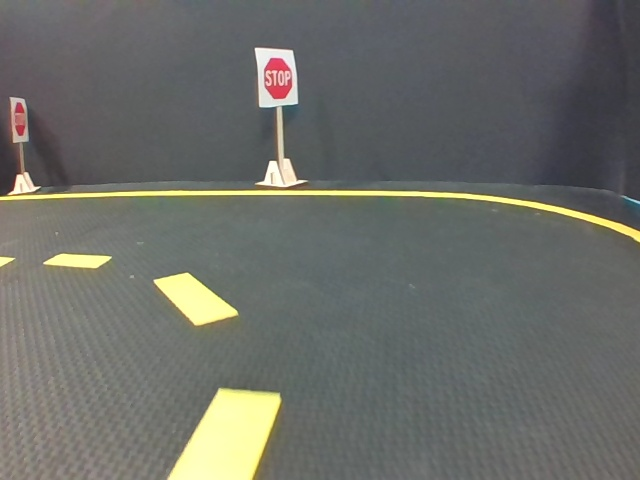stop: (257, 50, 298, 106), (13, 96, 28, 141)
